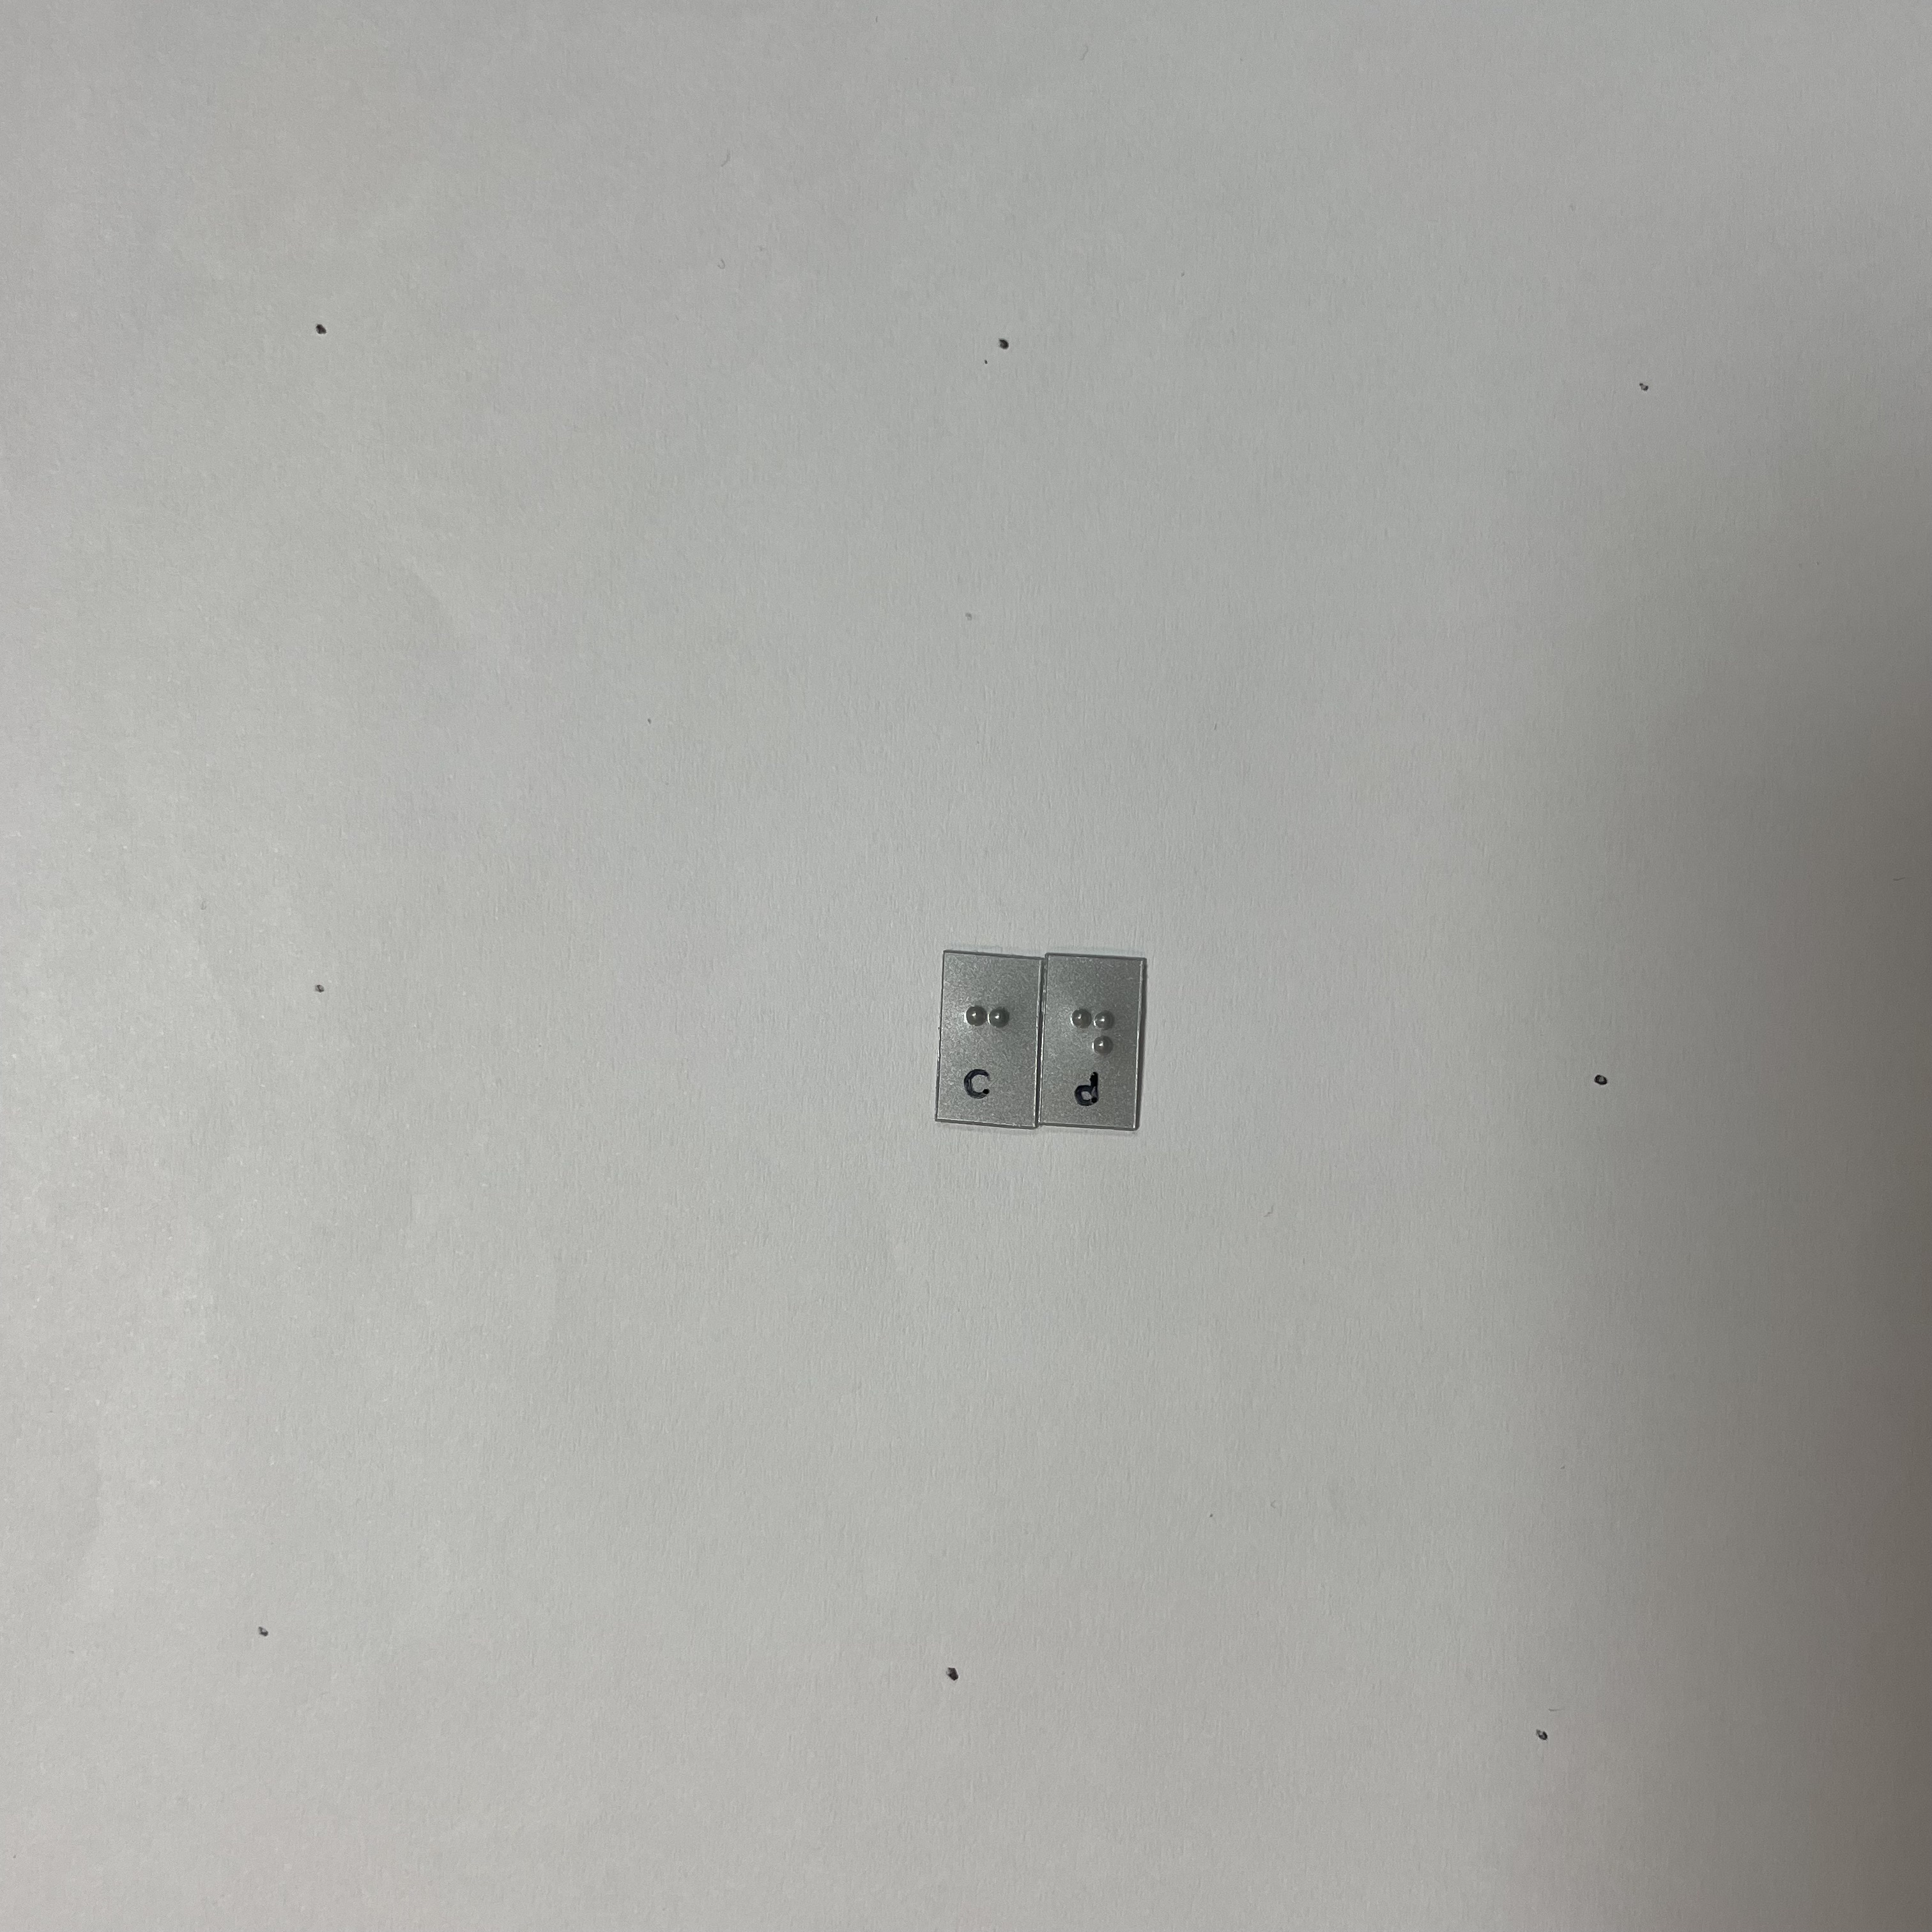c: (956, 997, 1013, 1072)
d: (1062, 997, 1124, 1082)
